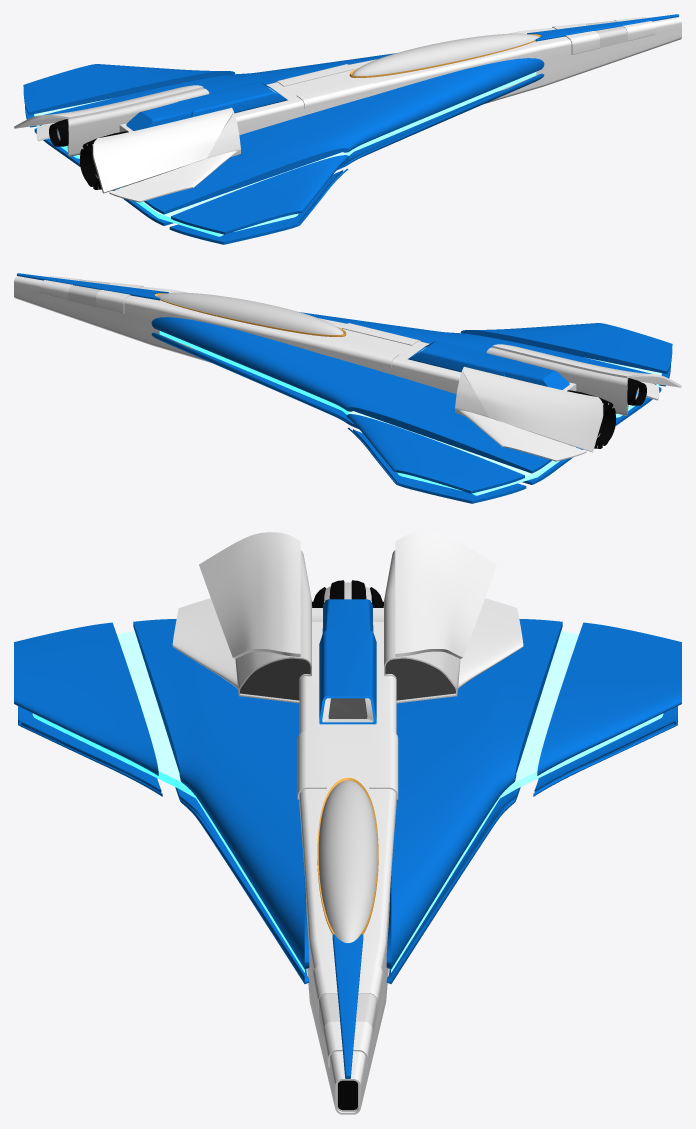
The picture shows the model from 3 angles, top to bottom: view 1: azimuth 30°, elevation 25°; view 2: azimuth 150°, elevation 25°; view 3: azimuth 270°, elevation 25°; orthographic projection. The views are drawn at different scales.
Visible parts, largest first — view 1: wingtop, Wingtoplet, Cube, Toplet, Cube.002, Toplet engine, Cube.003, Wingtoplet.001, wingbot, Plane, wingbotlet, Cube.007 (+6 smaller); view 2: wingtop, Wingtoplet, Cube, Toplet, Cube.002, Toplet engine, Cube.003, Wingtoplet.001, wingbot, Plane, wingbotlet, Cube.007 (+6 smaller); view 3: wingtop, Wingtoplet, Toplet, Cube, Toplet engine, Plane, Cube.002, Cube.003, Wingtoplet.001, wingbotlet, wingbot, Cube.007 (+4 smaller).
Boxes of the visible parts, bbox=[...] form: wingtop: bbox=[39, 53, 544, 214]; Wingtoplet: bbox=[23, 64, 349, 234]; Cube: bbox=[119, 17, 681, 135]; Toplet: bbox=[14, 85, 232, 193]; Cube.002: bbox=[352, 33, 538, 75]; Toplet engine: bbox=[67, 88, 240, 178]; Cube.003: bbox=[126, 82, 287, 130]; Wingtoplet.001: bbox=[36, 122, 237, 202]; wingbot: bbox=[34, 73, 544, 225]; Plane: bbox=[34, 72, 536, 236]; wingbotlet: bbox=[25, 106, 348, 244]; Cube.007: bbox=[275, 64, 375, 108]; wingtop: bbox=[151, 312, 656, 473]; Wingtoplet: bbox=[346, 323, 672, 493]; Cube: bbox=[14, 276, 576, 394]; Toplet: bbox=[463, 344, 681, 452]; Cube.002: bbox=[157, 292, 343, 334]; Toplet engine: bbox=[455, 347, 628, 437]; Cube.003: bbox=[408, 341, 569, 389]; Wingtoplet.001: bbox=[458, 381, 659, 461]; wingbot: bbox=[151, 332, 661, 484]; Plane: bbox=[159, 331, 661, 495]; wingbotlet: bbox=[347, 365, 670, 503]; Cube.007: bbox=[320, 323, 420, 367]; wingtop: bbox=[133, 619, 562, 969]; Wingtoplet: bbox=[14, 622, 681, 775]; Toplet: bbox=[199, 532, 496, 658]; Cube: bbox=[299, 608, 396, 1114]; Toplet engine: bbox=[235, 550, 460, 703]; Plane: bbox=[32, 631, 663, 972]; Cube.002: bbox=[318, 780, 377, 942]; Cube.003: bbox=[319, 599, 376, 724]; Wingtoplet.001: bbox=[172, 598, 523, 688]; wingbotlet: bbox=[18, 706, 677, 796]; wingbot: bbox=[175, 787, 520, 983]; Cube.007: bbox=[297, 731, 398, 799].
Bounding box in the file's own units: 2444 × 256 × 1376.
